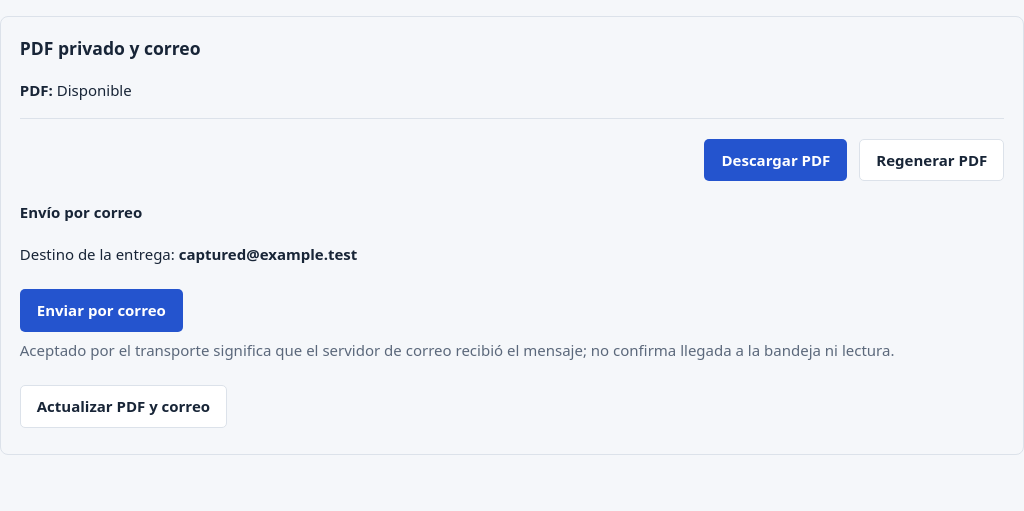
Scenario: muestra error controlado antes de crear una descarga
The image size is (1024, 511).
What coordinates should you click on to do the following:
click the button "Descargar PDF"
I would click on:
 (776, 160)
Its box is [704,139,847,181].
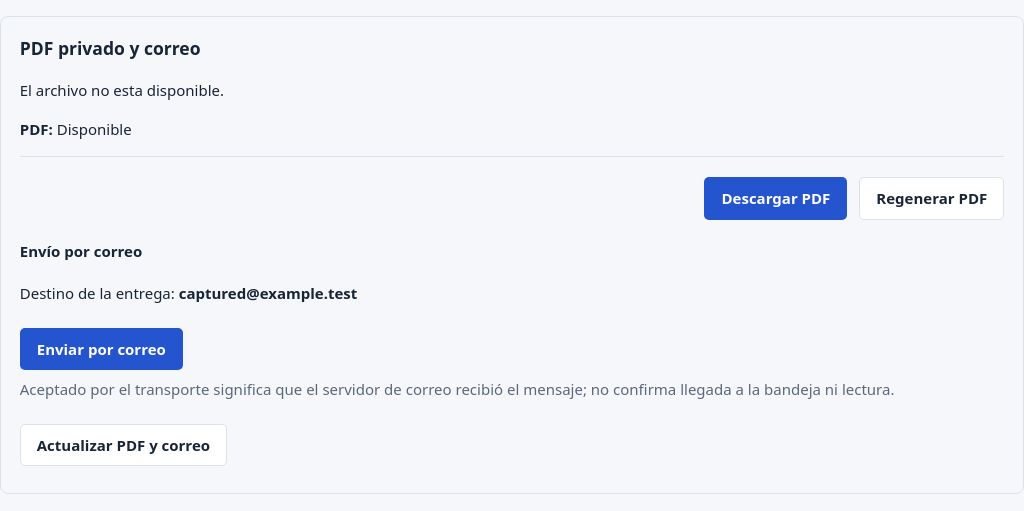
Now the message shows "archivo no esta disponible", box [20,80,224,100]
